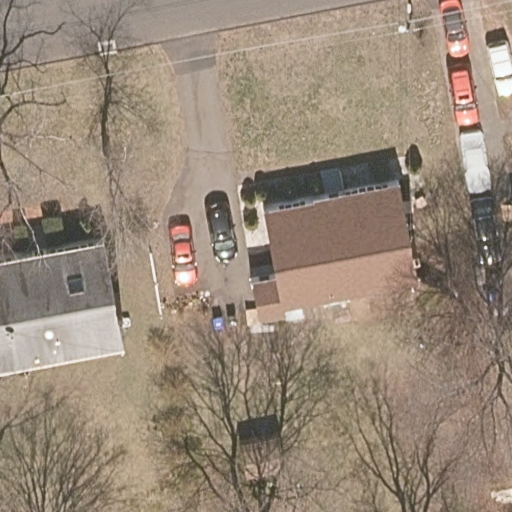DT: (397, 1, 414, 34)
